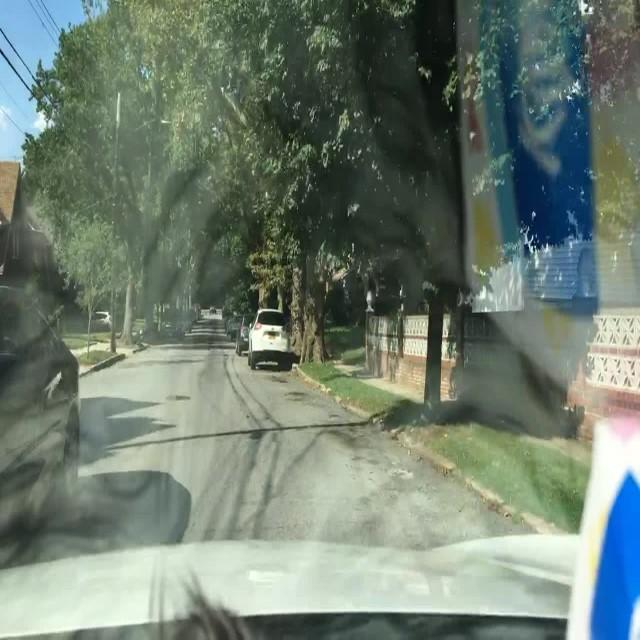normal: (227, 295, 310, 390)
